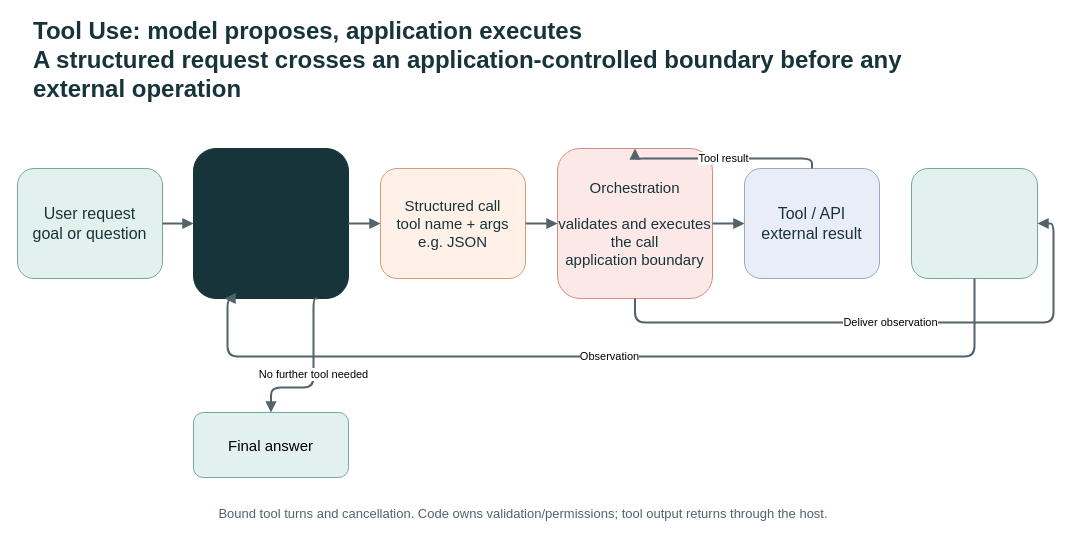
Some shapes in this 1080 by 546 pixel diagram are drawn without their labels. Here are the shapes that lost their labels. From the top down, the centre of each, then its label:
At [270,223]: "LLM decides if a tool is needed given tool definitions".
At [974,223]: "Observe then respond".
